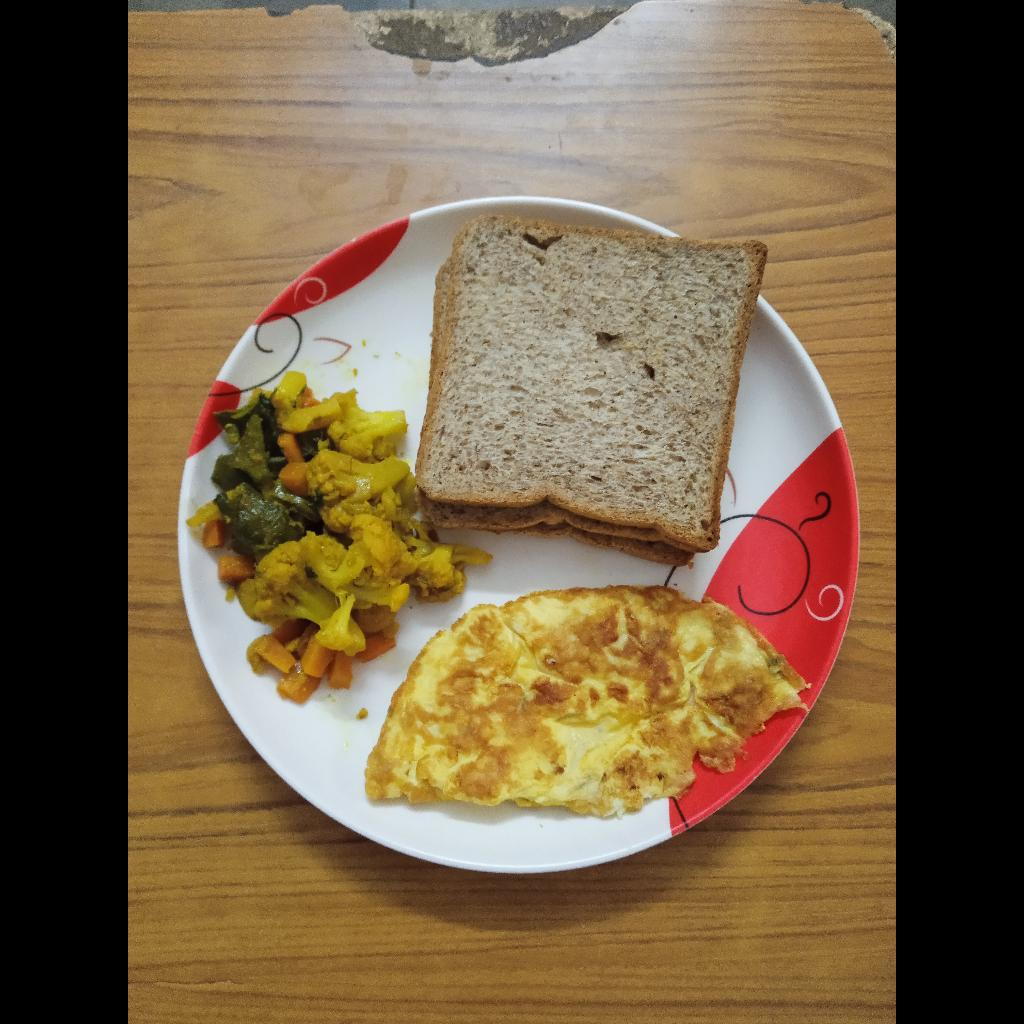bread: (414, 216, 769, 567)
egg-poached: (365, 583, 807, 819)
vegetable: (186, 371, 492, 700)
